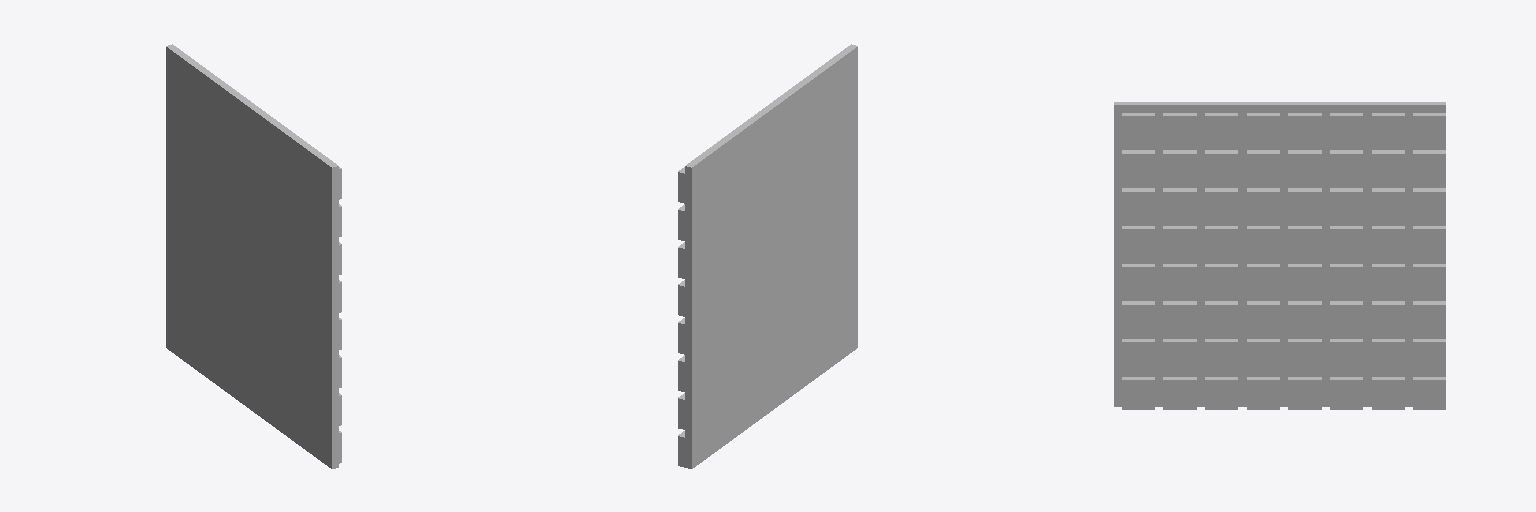
File: 7eta 5zn.obj
3 renders of one model, left to right at view 1: azimuth 30°, elevation 25°; view 2: azimuth 150°, elevation 25°; view 3: azimuth 270°, elevation 25°, orthographic.
Visible parts, largest first — view 1: object 1; view 2: object 1; view 3: object 1.
Part boxes in pixels (bbox=[...]): object 1: bbox=[166, 44, 341, 468]; object 1: bbox=[678, 44, 857, 468]; object 1: bbox=[1114, 102, 1445, 409].
Bounding box in the file's own units: 0.2 × 4 × 4.